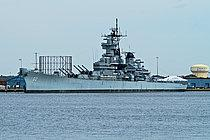MIL_Ship: (21, 28, 189, 92)
